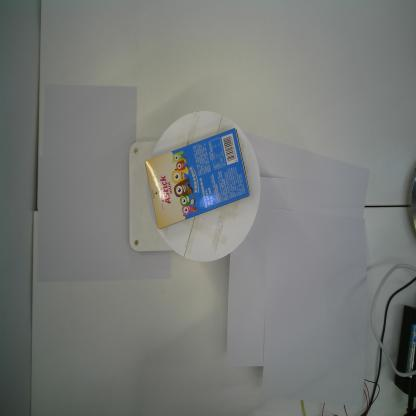Dessert: (144, 127, 251, 230)
